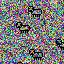sheep: (28, 48, 43, 61), (16, 21, 31, 33), (28, 5, 42, 17)
